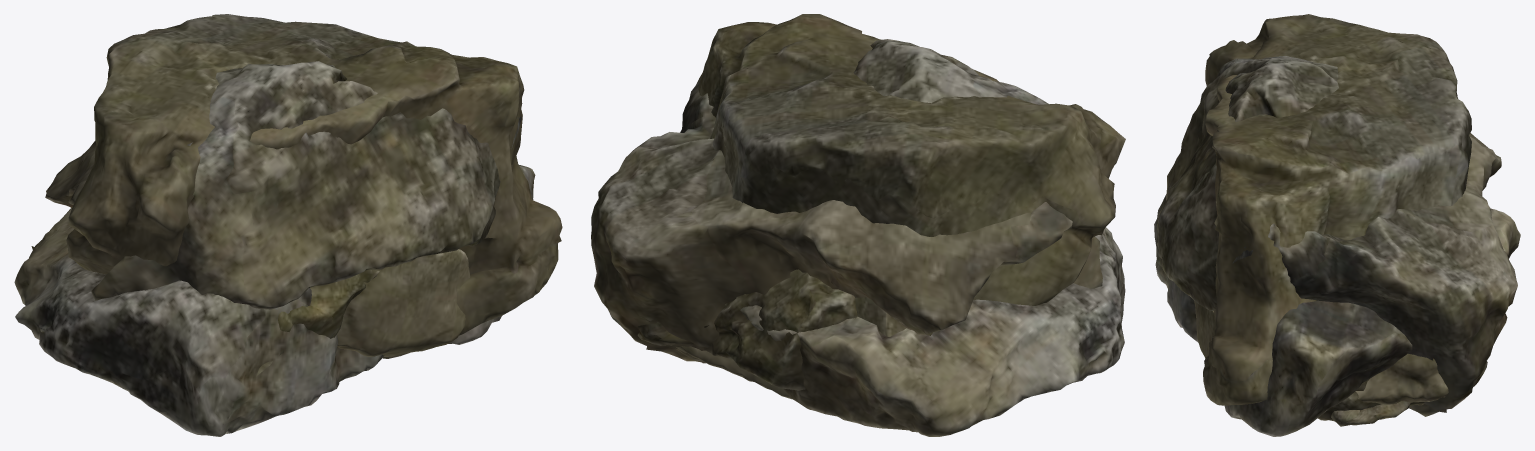
Rendered from rock_moss_set_02.glb.
The picture shows the model from 3 angles, left to right: view 1: azimuth 30°, elevation 25°; view 2: azimuth 150°, elevation 25°; view 3: azimuth 270°, elevation 25°; orthographic projection. The views are drawn at different scales.
Visible parts, largest first — view 1: rock_moss_set_02_rock13, rock_moss_set_02_rock11, rock_moss_set_02_rock10, rock_moss_set_02_rock07, rock_moss_set_02_rock12; view 2: rock_moss_set_02_rock13, rock_moss_set_02_rock11, rock_moss_set_02_rock10, rock_moss_set_02_rock12, rock_moss_set_02_rock07; view 3: rock_moss_set_02_rock13, rock_moss_set_02_rock11, rock_moss_set_02_rock10, rock_moss_set_02_rock07, rock_moss_set_02_rock09, rock_moss_set_02_rock12.
Boxes of the visible parts, x1,y1,x2,y2 form: rock_moss_set_02_rock13: (66, 14, 562, 358); rock_moss_set_02_rock11: (45, 61, 521, 309); rock_moss_set_02_rock10: (14, 165, 535, 436); rock_moss_set_02_rock07: (337, 249, 470, 356); rock_moss_set_02_rock12: (256, 270, 379, 376); rock_moss_set_02_rock13: (696, 14, 1125, 305); rock_moss_set_02_rock11: (591, 39, 1102, 363); rock_moss_set_02_rock10: (740, 227, 1125, 436); rock_moss_set_02_rock12: (637, 272, 857, 390); rock_moss_set_02_rock07: (674, 269, 906, 399); rock_moss_set_02_rock13: (1203, 14, 1471, 405); rock_moss_set_02_rock11: (1157, 56, 1517, 416); rock_moss_set_02_rock10: (1154, 194, 1520, 436); rock_moss_set_02_rock07: (1194, 300, 1448, 404); rock_moss_set_02_rock09: (1331, 401, 1411, 426); rock_moss_set_02_rock12: (1317, 361, 1487, 420).
Size of the model in its own units: 2.2 by 1.31 by 1.55.
1 material, 1 textured.
